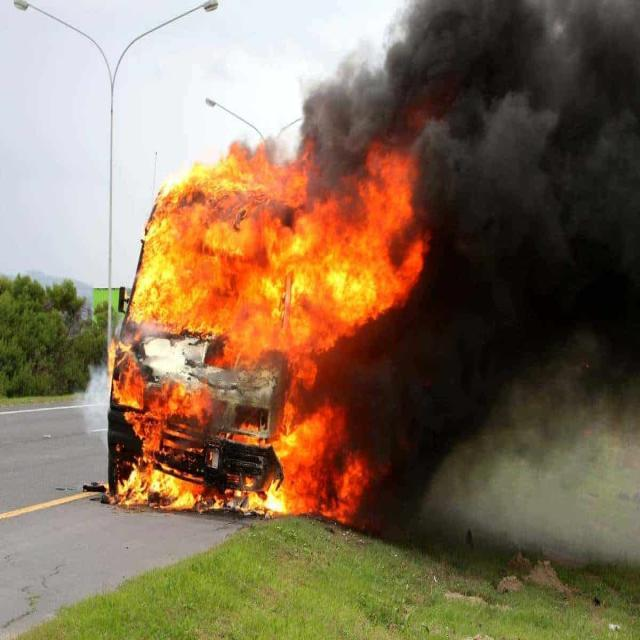Fire: (132, 176, 302, 330), (106, 352, 202, 515), (306, 213, 393, 321), (256, 423, 330, 518)
